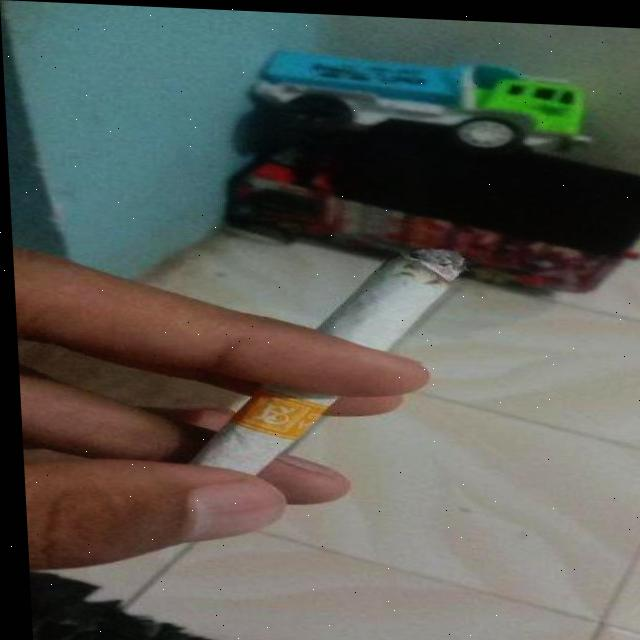cigarette: (174, 236, 470, 475)
